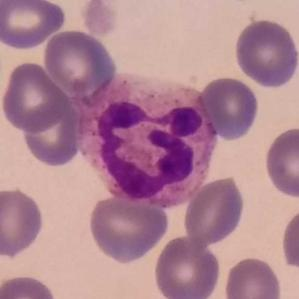Neutrophil: (77, 73, 219, 206)
Platelets: (78, 0, 122, 38)
RBC: (86, 191, 171, 265), (0, 59, 72, 133), (40, 28, 117, 96), (181, 174, 247, 249), (232, 16, 299, 89), (151, 233, 222, 299), (196, 74, 261, 142), (20, 102, 85, 169), (0, 0, 68, 51), (0, 185, 46, 259), (221, 254, 283, 299), (262, 125, 299, 200), (0, 272, 59, 298), (279, 203, 299, 274)
